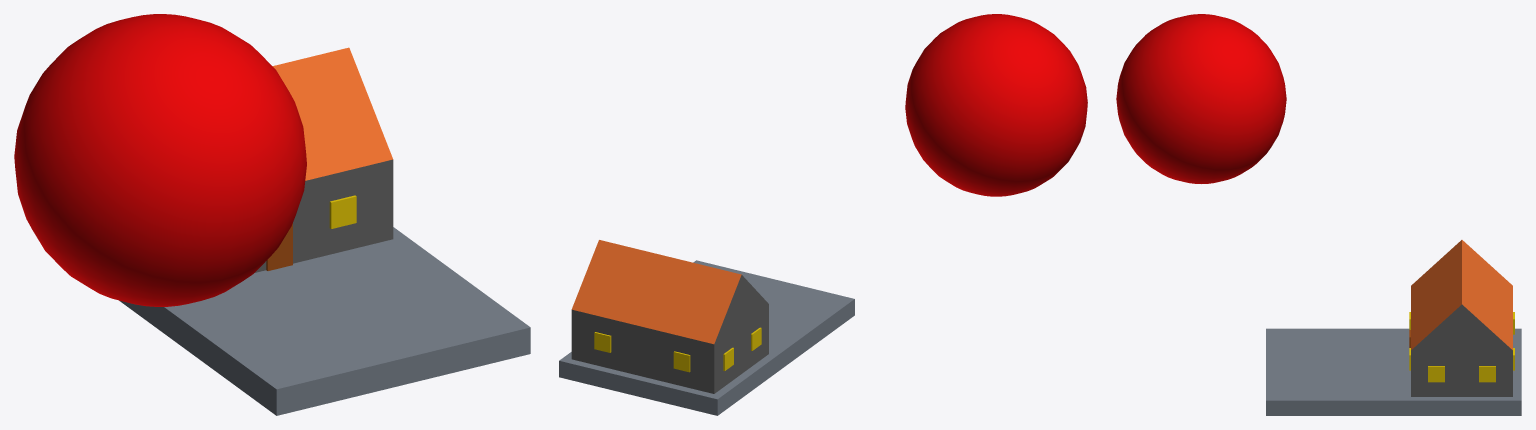
3 views of the same model, side by side, from view 1: azimuth 30°, elevation 25°; view 2: azimuth 150°, elevation 25°; view 3: azimuth 270°, elevation 25° (orthographic). The views are drawn at different scales.
Visible parts, largest first — view 1: Sphere, fundament, roof, wall, window.004, door; view 2: Sphere, roof, wall, fundament; view 3: Sphere, fundament, roof, wall.
Part boxes in pixels (x1,y1,x2,y2): Sphere: (14,14,306,306); fundament: (119,227,530,415); roof: (272,47,393,180); wall: (255,159,393,272); window.004: (329,195,356,228); door: (266,223,292,270); Sphere: (905,14,1087,196); roof: (571,240,741,344); wall: (571,275,768,393); fundament: (559,260,854,415); Sphere: (1116,14,1286,183); fundament: (1266,328,1521,415); roof: (1411,240,1512,349); wall: (1411,304,1512,396).
Size of the model in its own units: 43.51 by 35.43 by 47.59.
